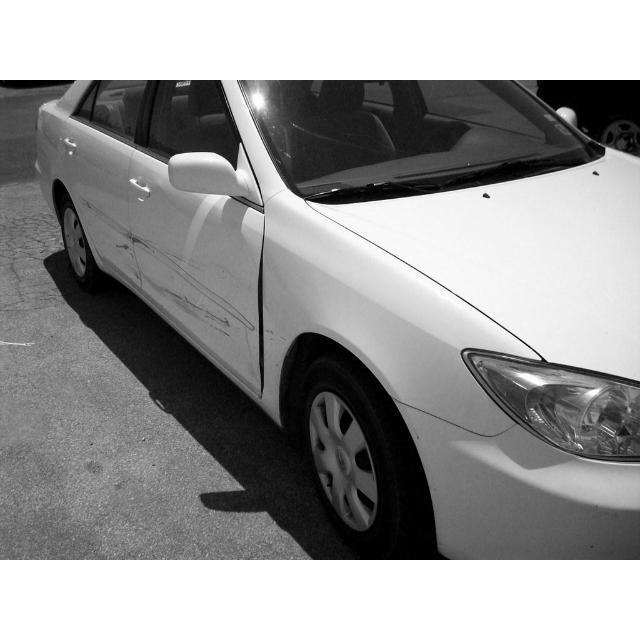doorouter-dent: (137, 165, 257, 365)
